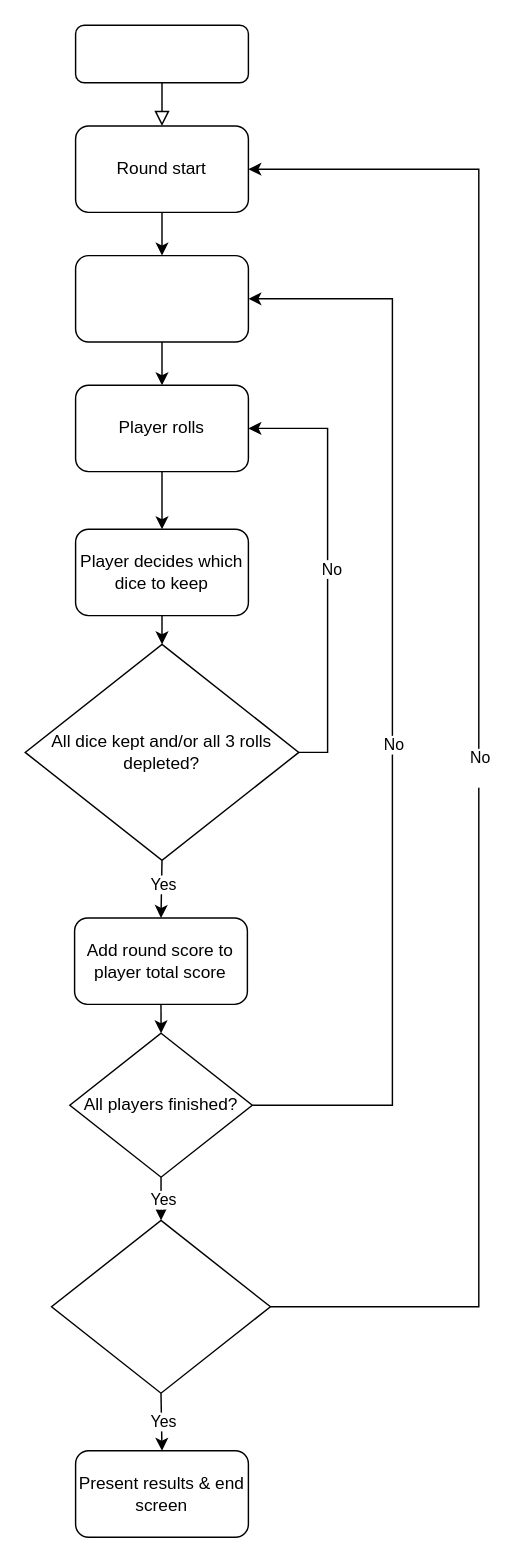
The diagram is 516 pixels wide and 1562 high, and some of its shapes have lost their labels. Here are the shapes that lost their labels. From the top down, the box of each, then its label:
(74, 24, 248, 83): Create players and dice
(74, 254, 248, 342): Player next in line starts
(50, 1219, 270, 1393): All rounds finished?
